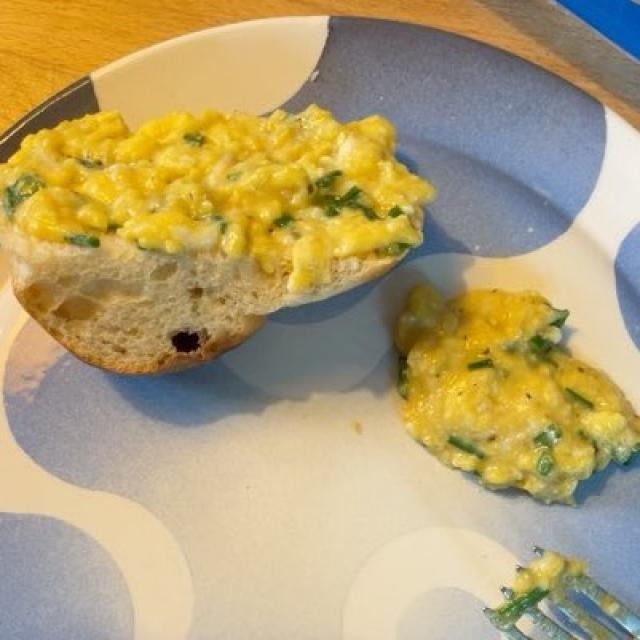bread: (21, 219, 429, 381)
